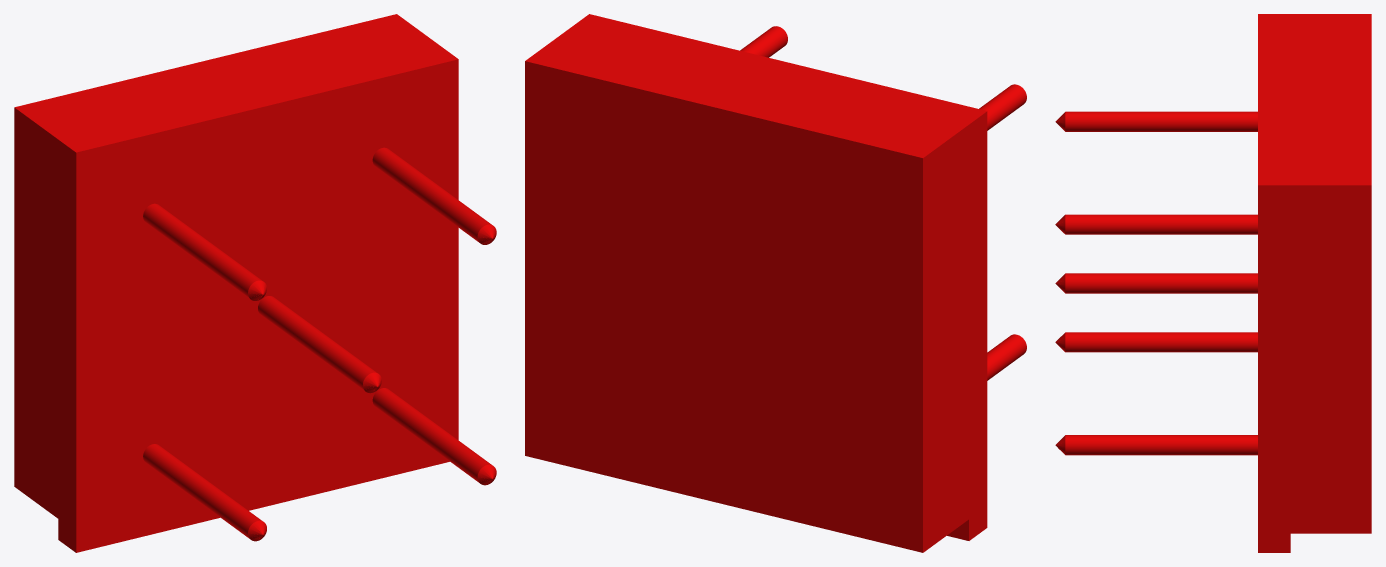
Rendered from PhantomTarget.dae.
3 renders of one model, left to right at view 1: azimuth 30°, elevation 25°; view 2: azimuth 150°, elevation 25°; view 3: azimuth 270°, elevation 25°, orthographic. The views are drawn at different scales.
Visible parts, largest first — view 1: Phantom_Target; view 2: Phantom_Target; view 3: Phantom_Target.
Boxes of the visible parts, x1,y1,x2,y2 form: Phantom_Target: [14, 14, 496, 552]; Phantom_Target: [525, 14, 1026, 552]; Phantom_Target: [1055, 14, 1371, 552].
Size of the model in its own units: 0.1 by 0.078 by 0.1.
